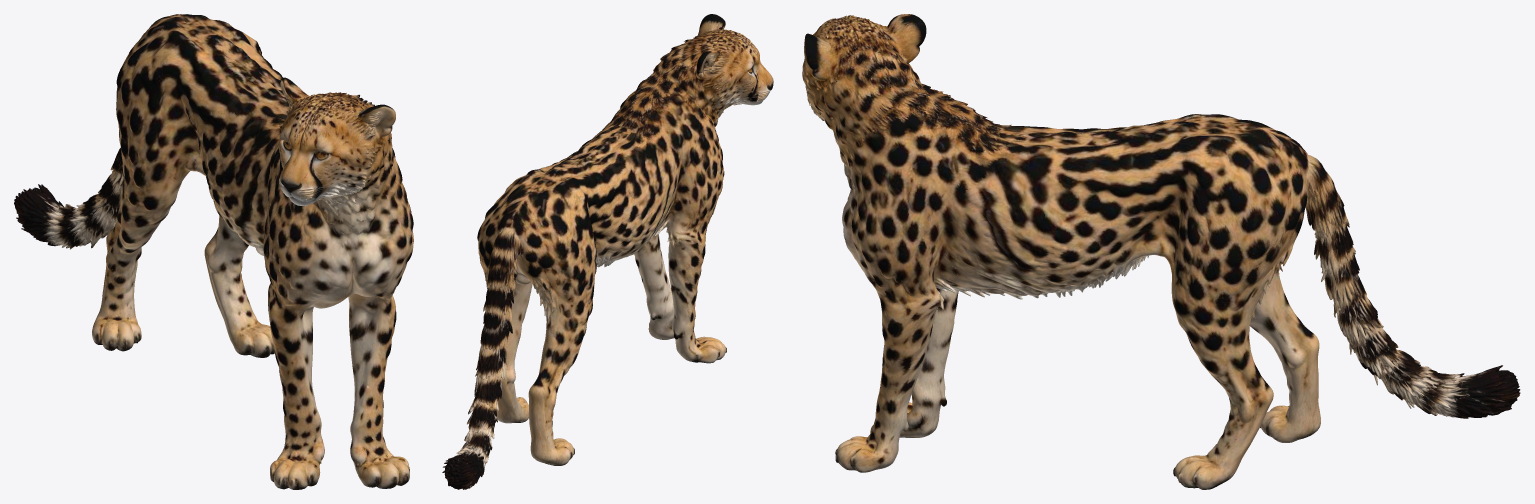
Rendered from wild-cheetah.glb.
3 views of the same model, side by side, from view 1: azimuth 30°, elevation 25°; view 2: azimuth 150°, elevation 25°; view 3: azimuth 270°, elevation 25° (orthographic). The views are drawn at different scales.
Visible parts, largest first — view 1: cheetah; view 2: cheetah; view 3: cheetah.
Part boxes in pixels (x1,y1,x2,y2): cheetah: (14, 14, 413, 489); cheetah: (442, 14, 773, 489); cheetah: (802, 14, 1520, 489).
Size of the model in its own units: 0.4255 by 0.9284 by 1.47.
Materials: 1 (1 with a texture image).
